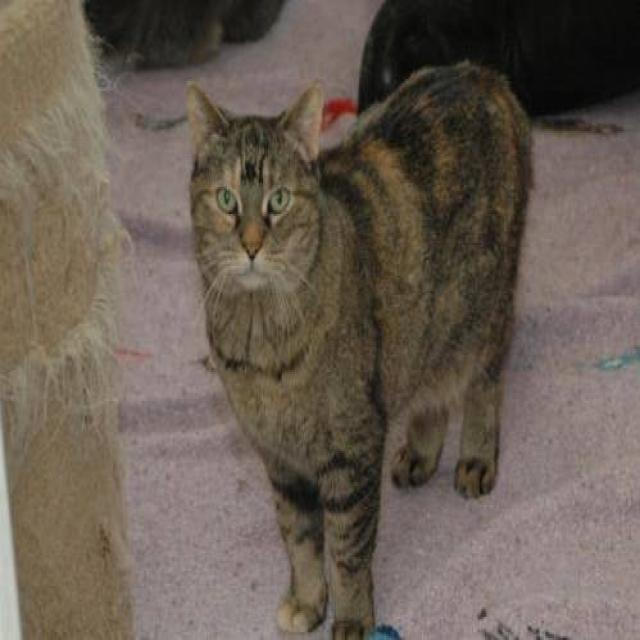cat: (185, 58, 535, 638), (79, 0, 289, 69)
